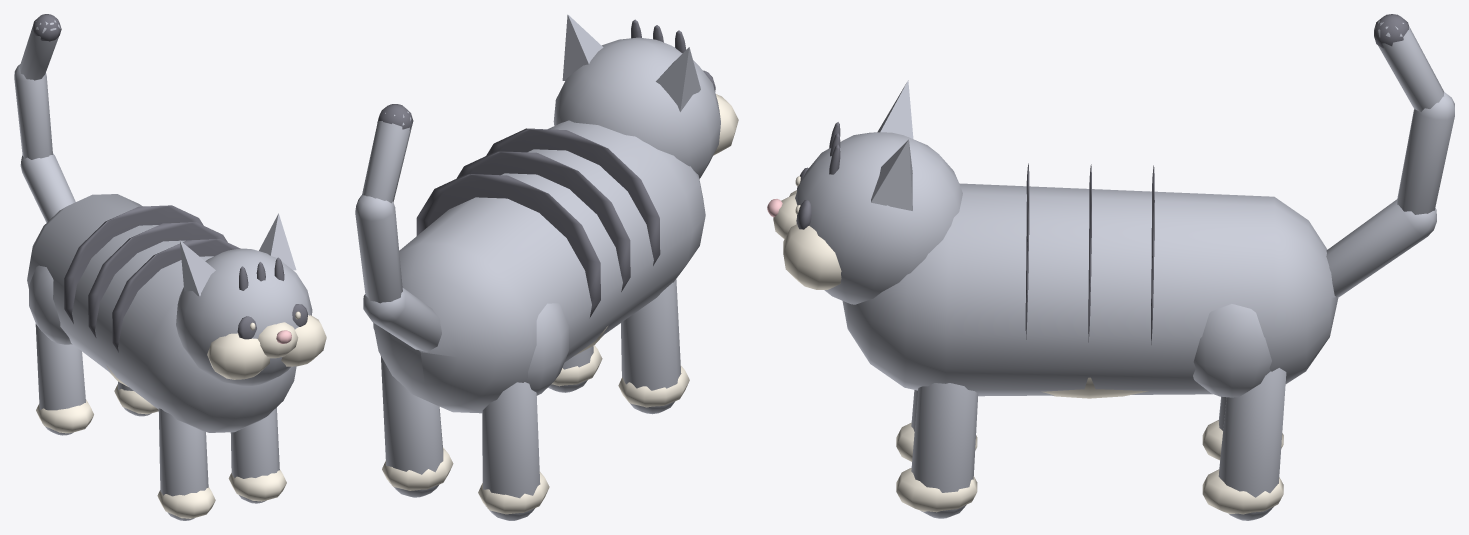
File: companion-animals-and-pet-home-cat-standing-grey-tabby-45fdde53__20537.glb
3 views of the same model, side by side, from view 1: azimuth 30°, elevation 25°; view 2: azimuth 150°, elevation 25°; view 3: azimuth 270°, elevation 25° (orthographic). The views are drawn at different scales.
Parts seen in each view (by area): view 1: cat-standing-grey-tabby; view 2: cat-standing-grey-tabby; view 3: cat-standing-grey-tabby.
Boxes of the visible parts, x1,y1,x2,y2 form: cat-standing-grey-tabby: (14,14,326,520); cat-standing-grey-tabby: (355,14,738,520); cat-standing-grey-tabby: (767,14,1454,520).
Size of the model in its own units: 0.2211 by 0.5178 by 0.6759.
